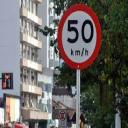NoEstacionar: (60, 110, 66, 122)
speed_limit_50: (56, 3, 103, 70)
